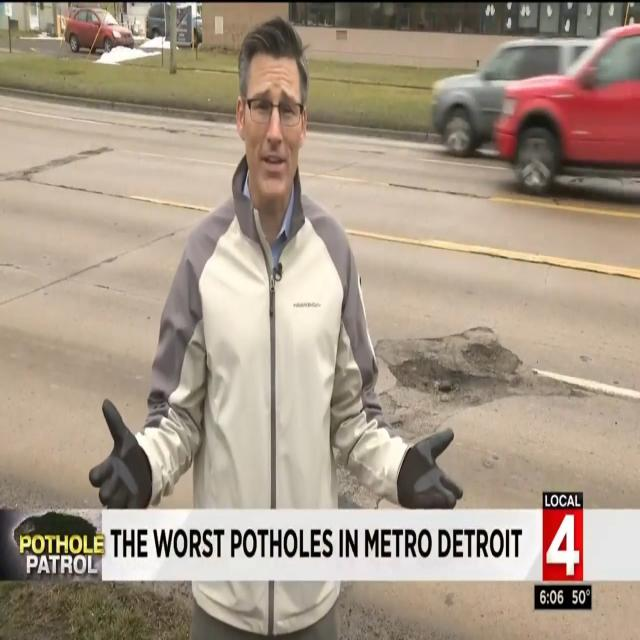pothole: (376, 328, 570, 439), (376, 326, 522, 390)
